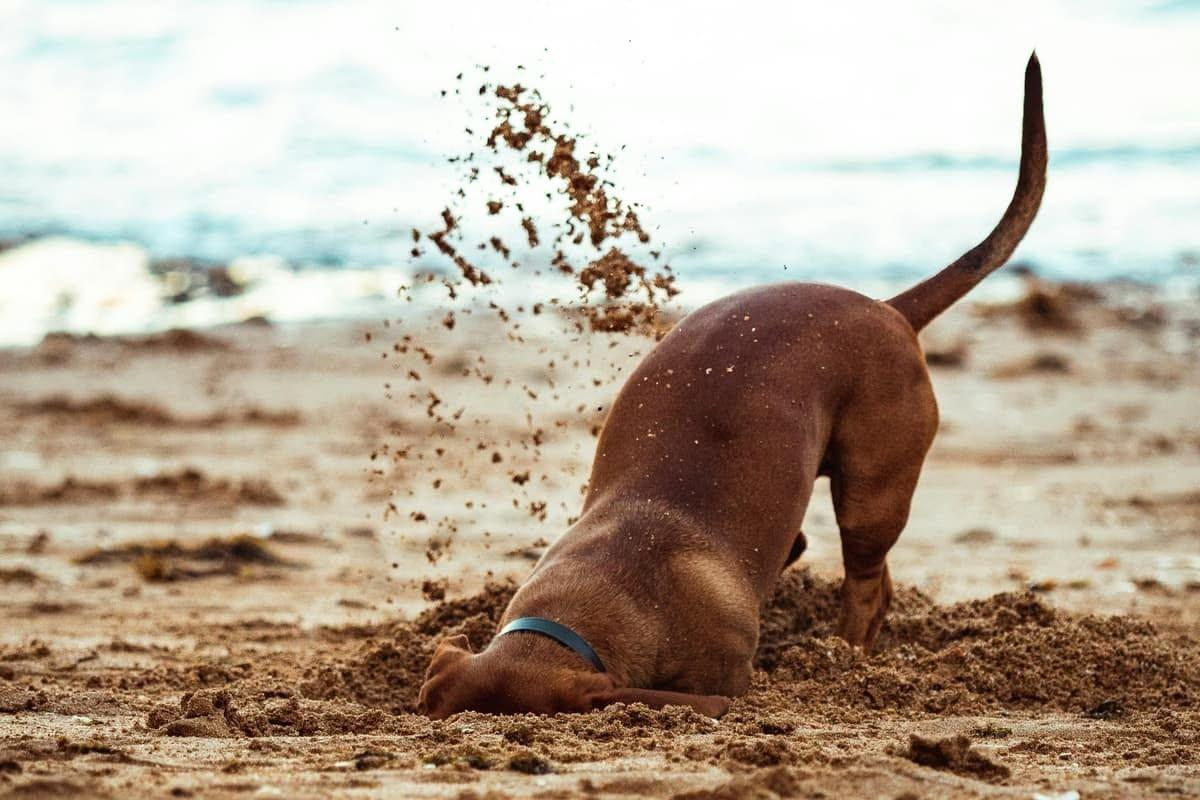adult_dog: (407, 42, 1064, 723)
